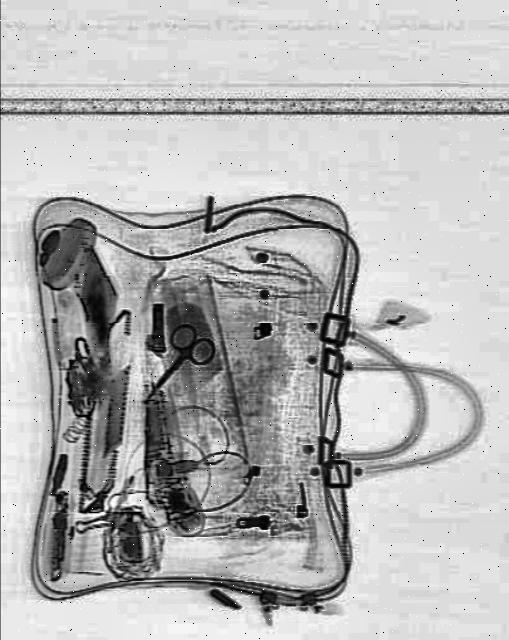Scissors: (139, 313, 221, 411)
